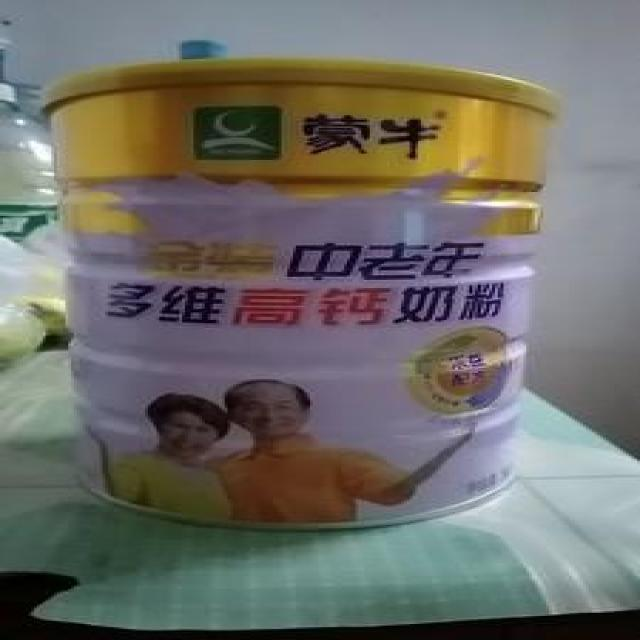-Recyclables - can-: (46, 61, 552, 528)
